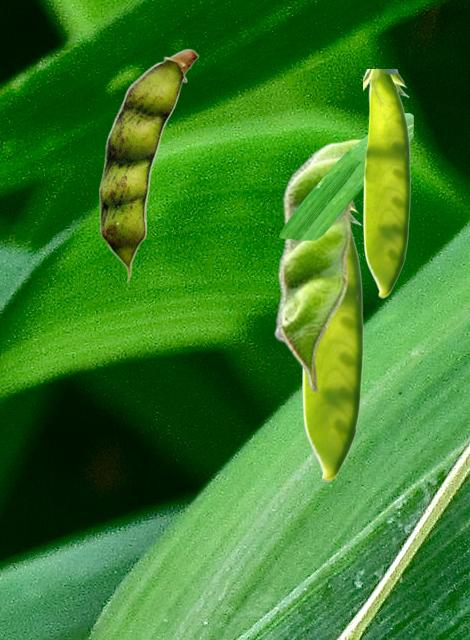pea: (99, 48, 198, 282), (273, 138, 361, 392), (302, 203, 363, 481), (363, 69, 410, 297)
